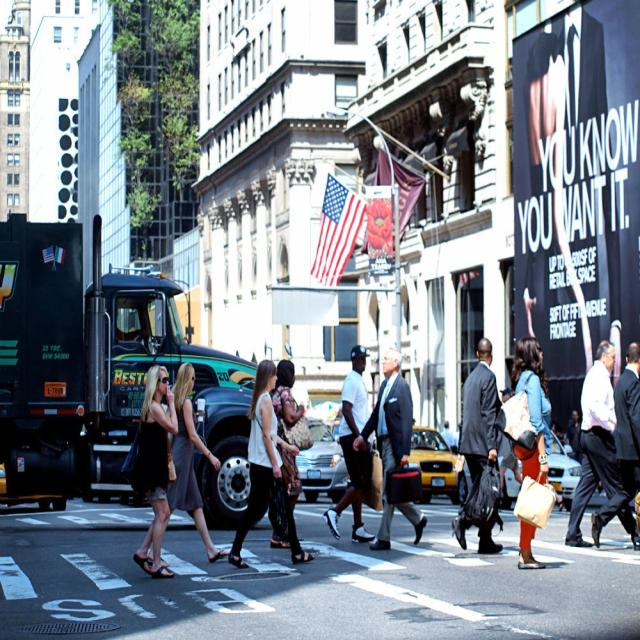body: (496, 0, 620, 460), (343, 493, 640, 576), (143, 360, 232, 572), (564, 338, 640, 551), (352, 345, 429, 552), (494, 335, 558, 569), (118, 364, 180, 580), (450, 335, 507, 556), (322, 343, 377, 544), (589, 339, 639, 548), (267, 359, 315, 552), (267, 358, 305, 552), (566, 408, 583, 466), (410, 428, 450, 452), (439, 419, 453, 450)
